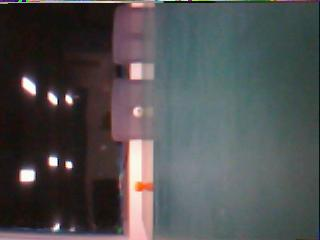oball: (134, 181, 142, 192)
